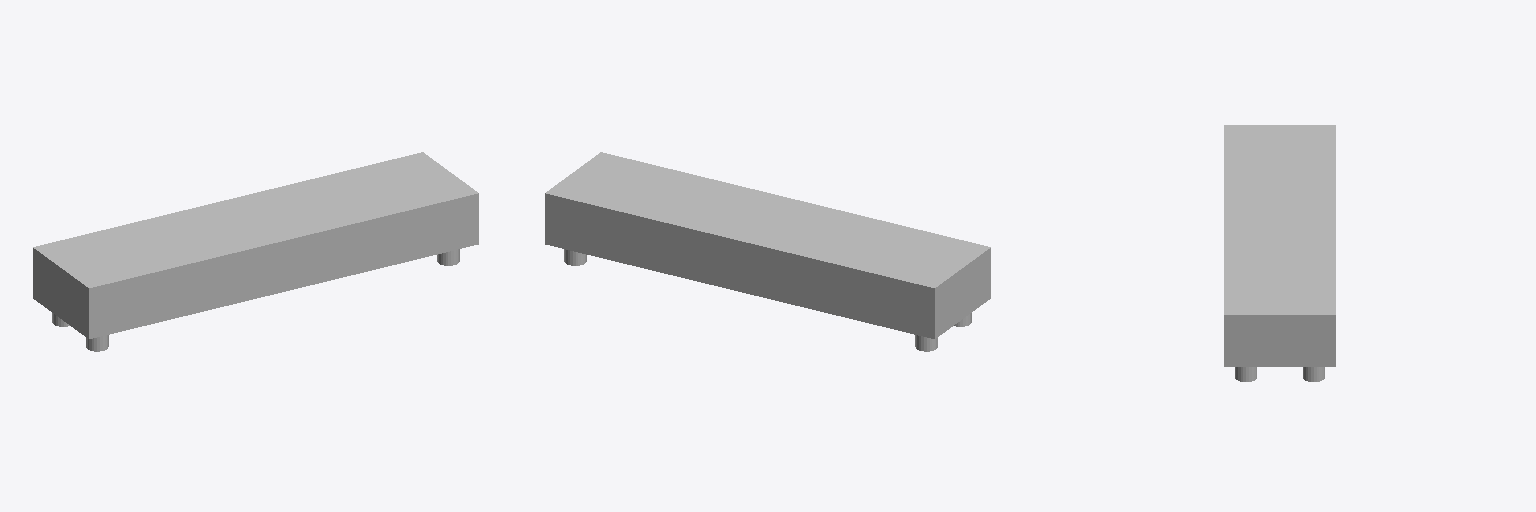
Rendered from SimpleBench.obj.
3 views of the same model, side by side, from view 1: azimuth 30°, elevation 25°; view 2: azimuth 150°, elevation 25°; view 3: azimuth 270°, elevation 25° (orthographic).
Parts seen in each view (by area): view 1: Body1; view 2: Body1; view 3: Body1.
Part boxes in pixels (left/top/right/bottom): Body1: left=33, top=152, right=478, bottom=351; Body1: left=545, top=152, right=990, bottom=351; Body1: left=1224, top=125, right=1335, bottom=381.
Size of the model in its own units: 20 by 3.5 by 5.